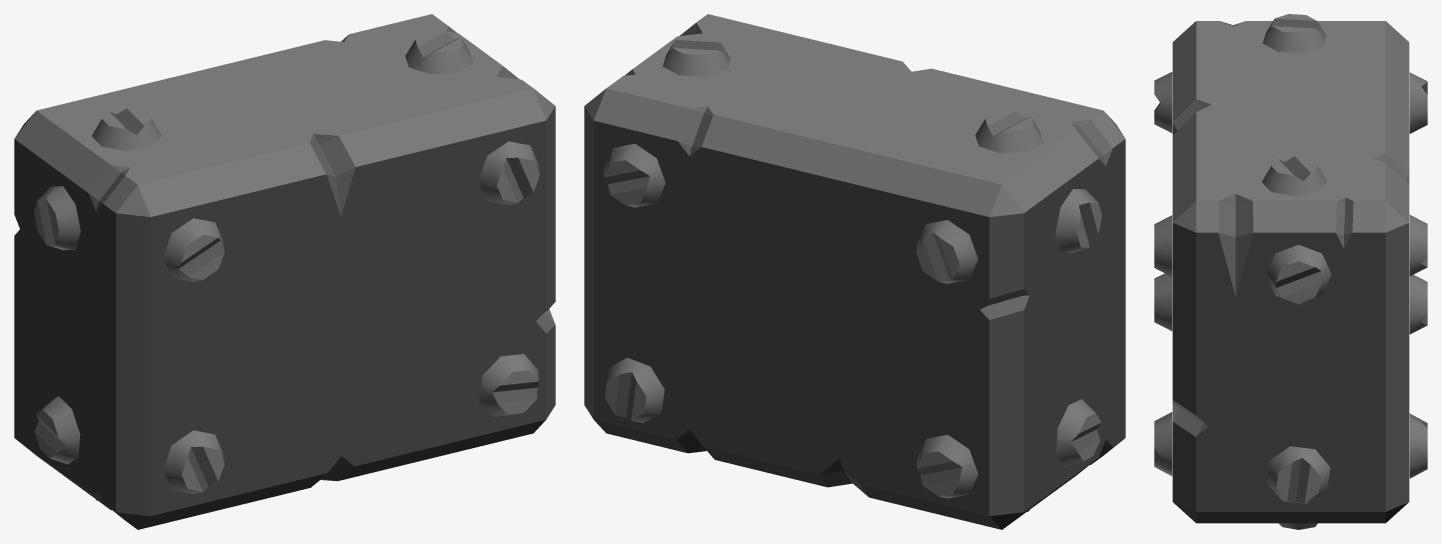
File: m_kub_metalOld_halfMid.FBX
The picture shows the model from 3 angles, left to right: view 1: azimuth 30°, elevation 25°; view 2: azimuth 150°, elevation 25°; view 3: azimuth 270°, elevation 25°; orthographic projection. The views are drawn at different scales.
Parts seen in each view (by area): view 1: m_kub_metalOld_halfMid; view 2: m_kub_metalOld_halfMid; view 3: m_kub_metalOld_halfMid.
Part boxes in pixels (bbox=[...]): m_kub_metalOld_halfMid: bbox=[14, 14, 555, 529]; m_kub_metalOld_halfMid: bbox=[584, 14, 1125, 529]; m_kub_metalOld_halfMid: bbox=[1154, 14, 1427, 529].
Bounding box in the file's own units: 2.15 × 1.65 × 1.15.
